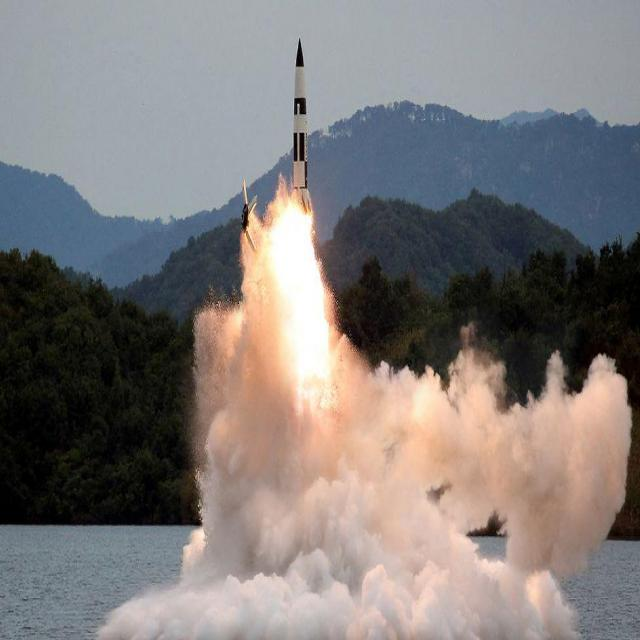rocket: (278, 31, 313, 318)
